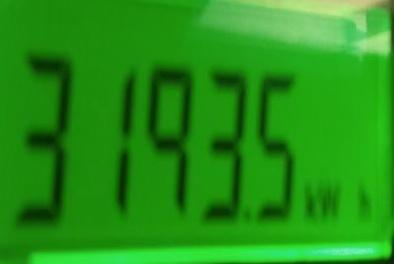.: (303, 177, 376, 222)
0: (244, 209, 252, 222)
2: (112, 64, 138, 216)
4: (17, 61, 76, 215), (202, 70, 249, 219)
6: (254, 78, 301, 218)
:: (144, 63, 195, 207)
